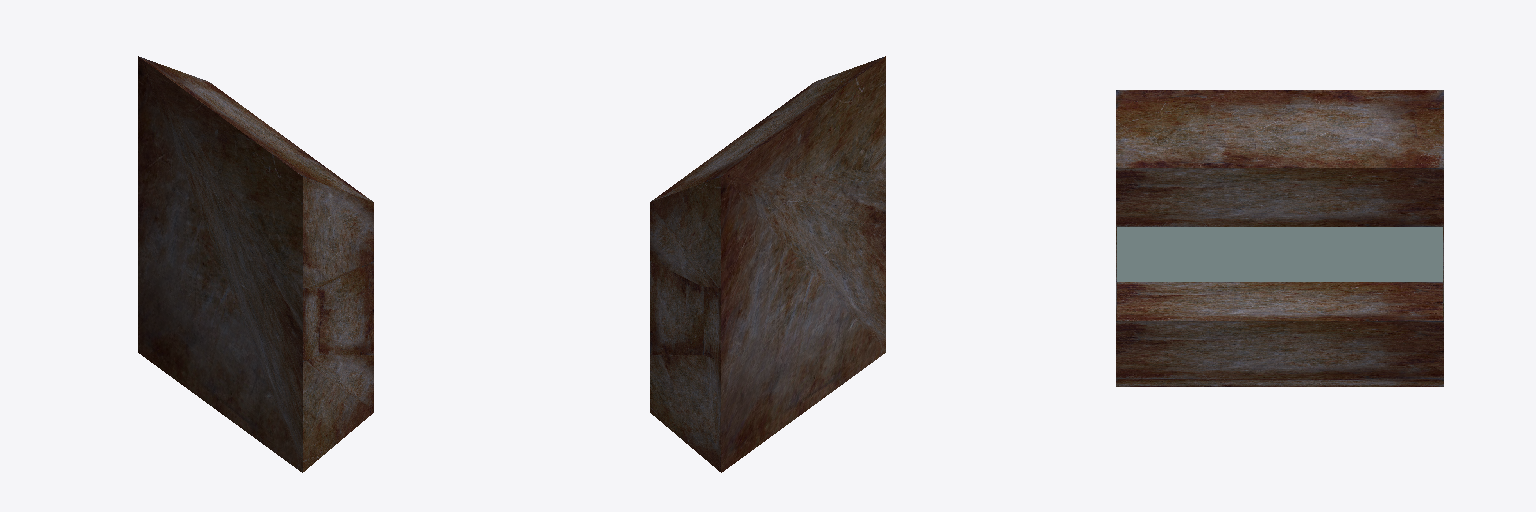
3 renders of one model, left to right at view 1: azimuth 30°, elevation 25°; view 2: azimuth 150°, elevation 25°; view 3: azimuth 270°, elevation 25°, orthographic.
Parts seen in each view (by area): view 1: kitkat_emissive_type1; view 2: kitkat_emissive_type1; view 3: kitkat_emissive_type1.
Part boxes in pixels (x1,y1,x2,y2): kitkat_emissive_type1: (138, 56, 373, 472); kitkat_emissive_type1: (650, 56, 885, 472); kitkat_emissive_type1: (1116, 90, 1443, 386).
Bounding box in the file's own units: 0.5 × 1.99 × 2.
2 materials, 1 textured.